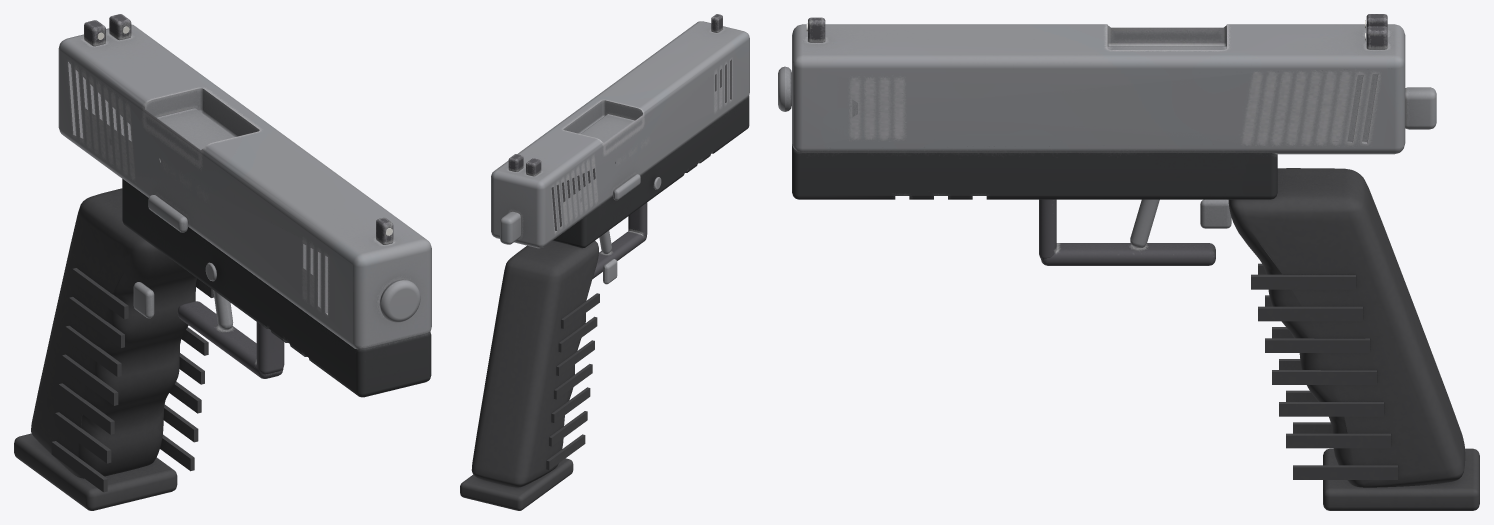
The picture shows the model from 3 angles, left to right: view 1: azimuth 30°, elevation 25°; view 2: azimuth 150°, elevation 25°; view 3: azimuth 270°, elevation 25°; orthographic projection. The views are drawn at different scales.
Parts seen in each view (by area): view 1: p250; view 2: p250; view 3: p250.
Boxes of the visible parts, box(x1,y1,x2,y2) form: p250: box(14, 14, 431, 510); p250: box(460, 14, 749, 510); p250: box(778, 14, 1479, 510).
Bounding box in the file's own units: 0.0311 × 0.1485 × 0.2003.
